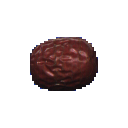gd: (18, 28, 105, 111)
